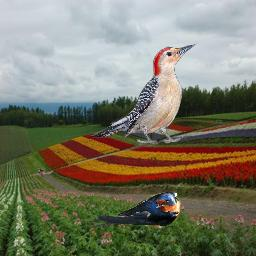Swallow: (87, 191, 181, 228)
Woodpecker: (86, 42, 198, 144)
